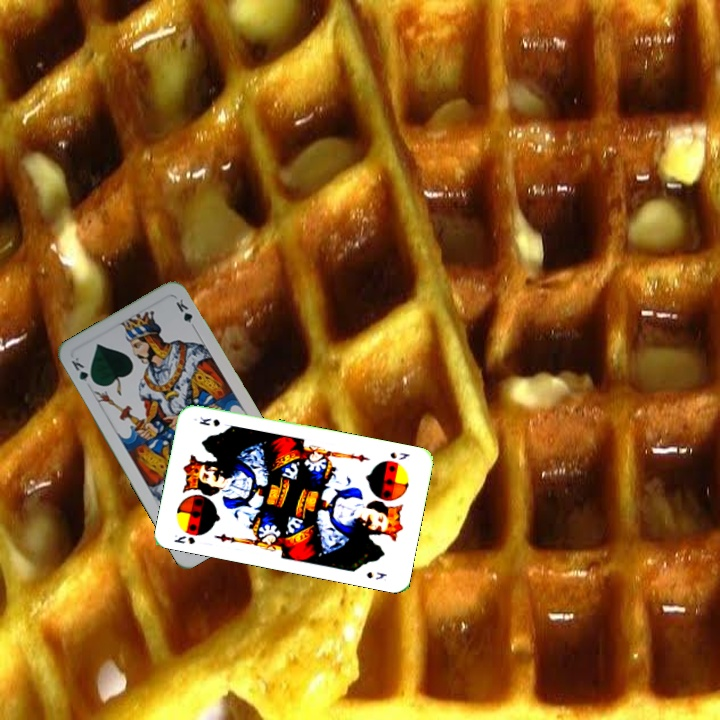GK: (67, 353, 98, 387)
SK: (170, 531, 197, 547), (386, 448, 412, 462)
